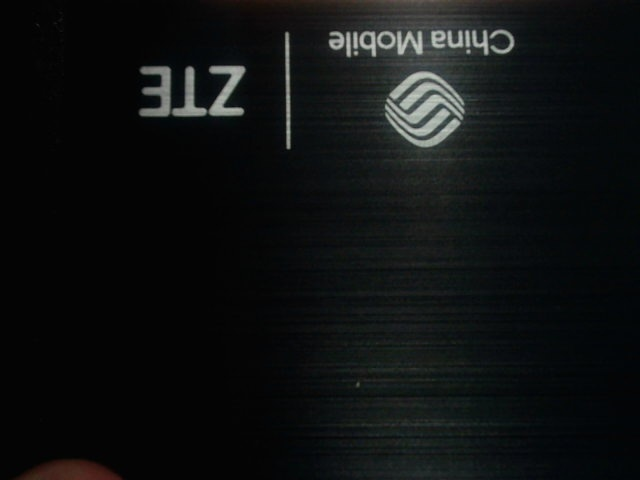AL_ZTEChinaMobile: (113, 13, 533, 165)
